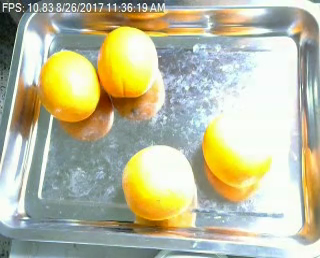Orange: (121, 145, 197, 219), (203, 112, 273, 184), (98, 26, 158, 98), (39, 48, 99, 119)
